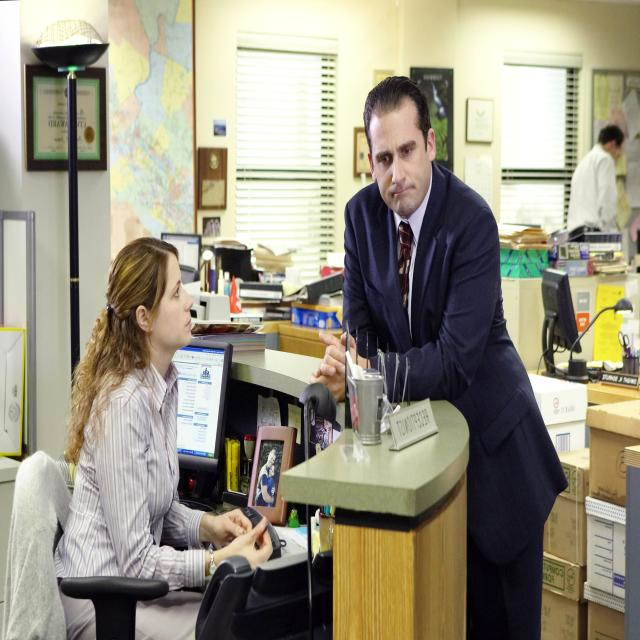adult: (340, 76, 555, 640), (45, 237, 274, 640), (568, 124, 628, 250)
